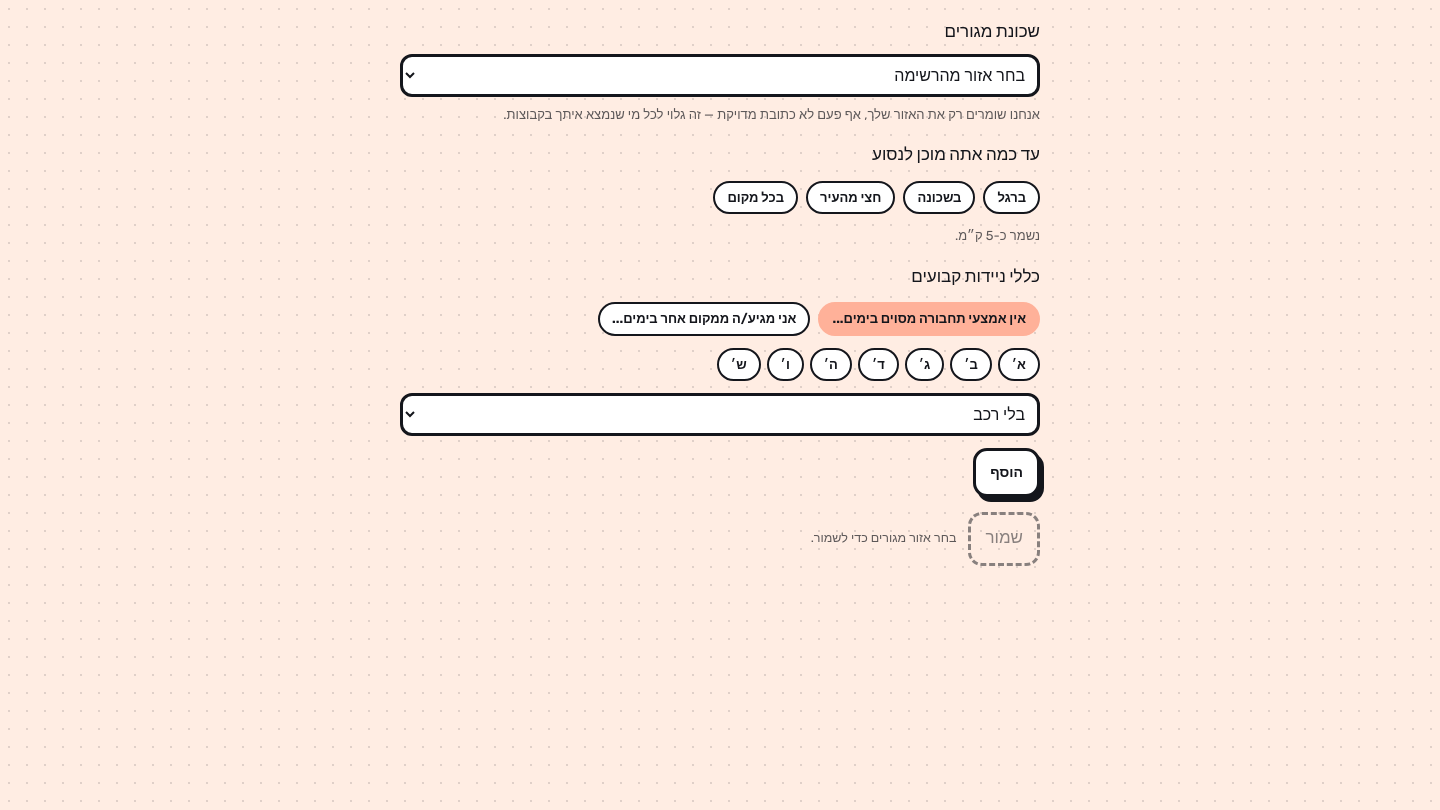
goes nowhere when the save fails (#260)
Expected: the button "ברגל" is shown, [983,180,1040,214]
Select "נווה צדק, תל אביב" in the dropdown named "שכונת מגורים" at (720, 75), box [400,54,1040,96]
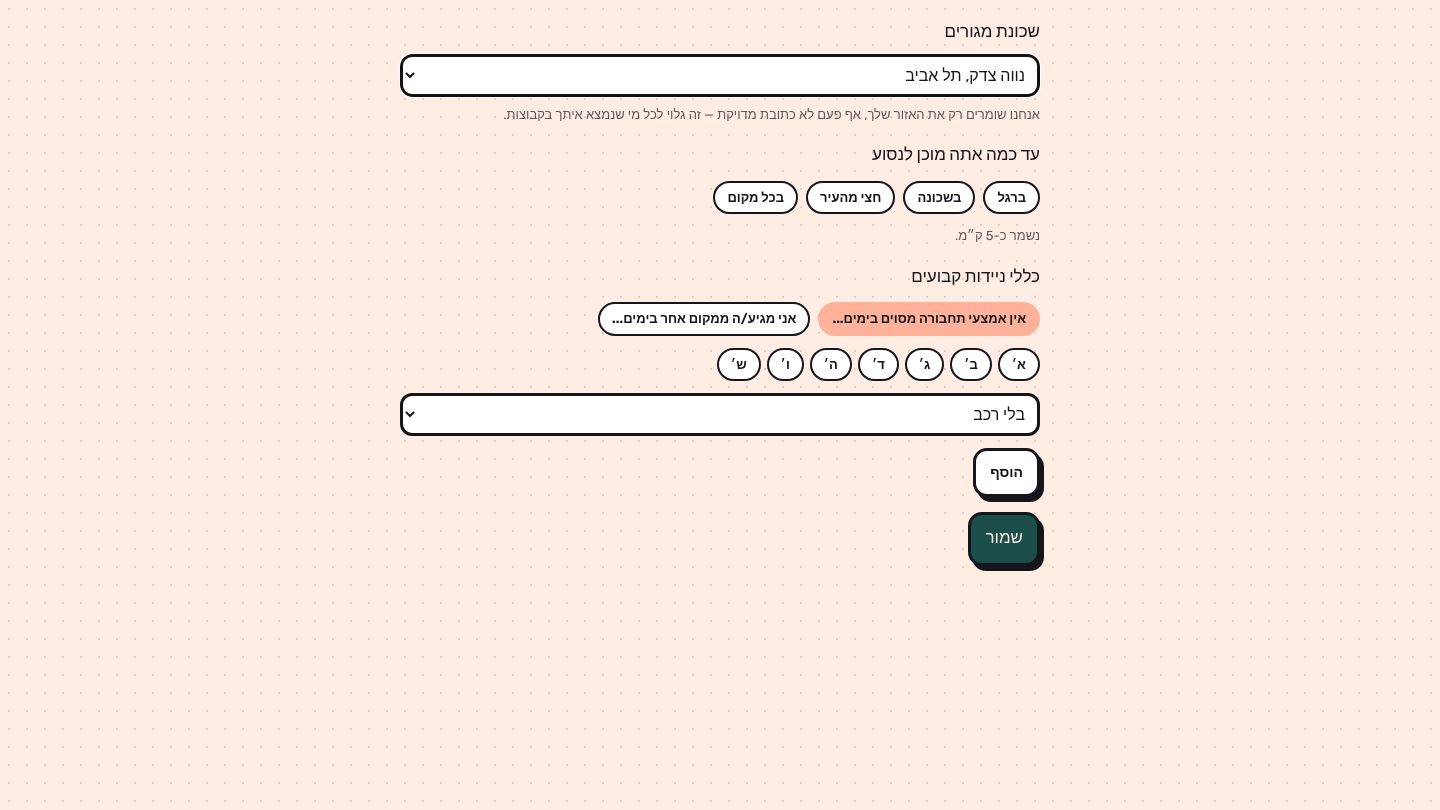
Click the button "שמור" at (1004, 539), box [968,512,1040,566]
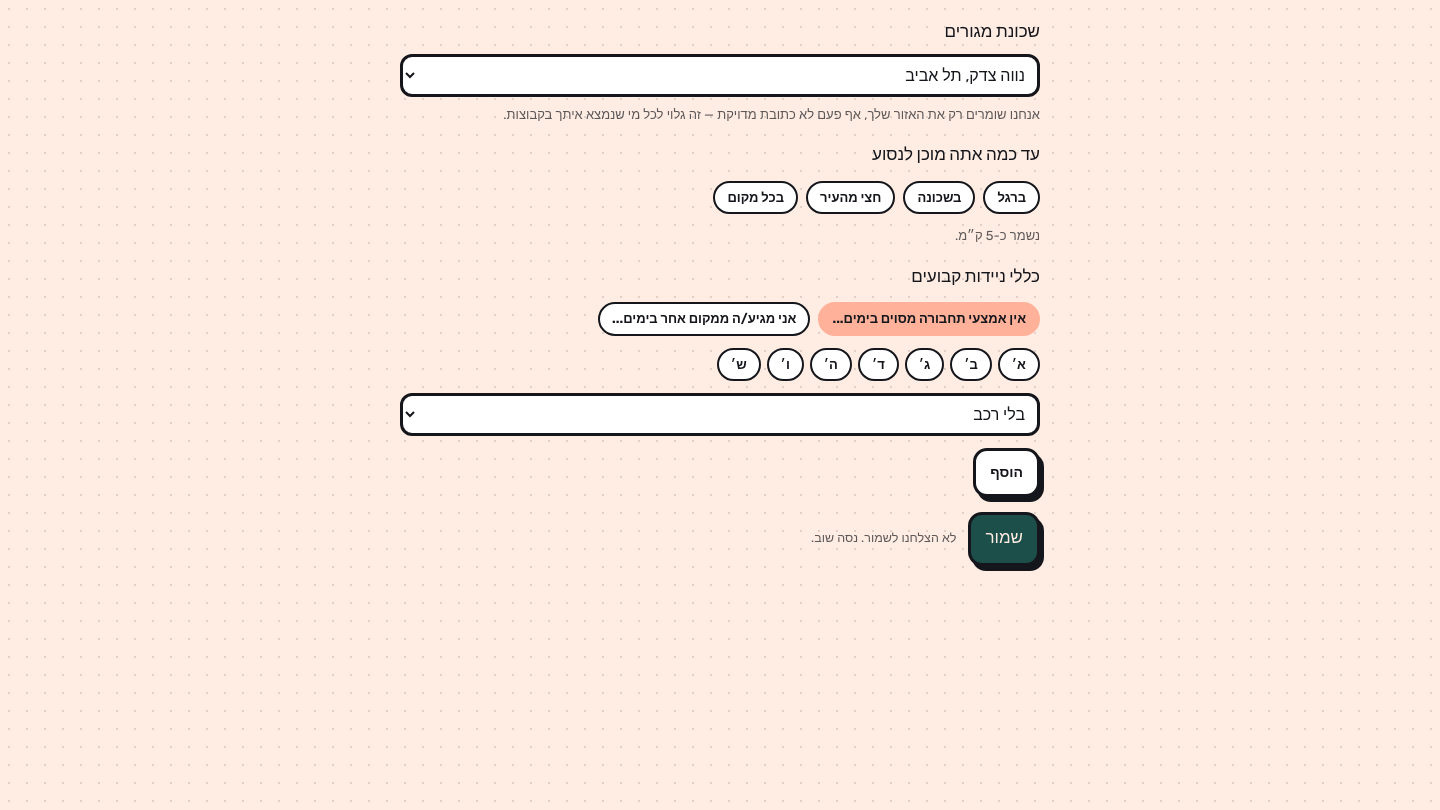
Expected: the text "לא הצלחנו לשמור. נסה שוב." is shown, [811,529,956,548]
